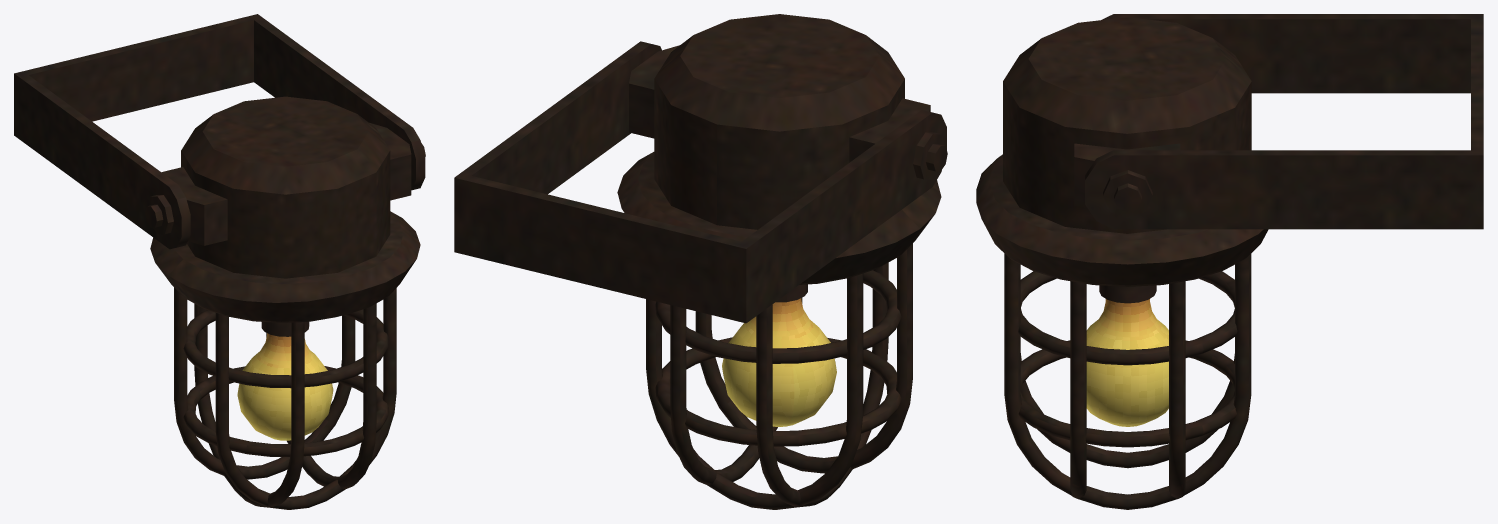
File: lamp_mx_1_on.obj
3 renders of one model, left to right at view 1: azimuth 30°, elevation 25°; view 2: azimuth 150°, elevation 25°; view 3: azimuth 270°, elevation 25°, orthographic. The views are drawn at different scales.
Visible parts, largest first — view 1: lamp_mx_1_on; view 2: lamp_mx_1_on; view 3: lamp_mx_1_on.
Boxes of the visible parts, x1,y1,x2,y2 form: lamp_mx_1_on: (14, 14, 425, 509); lamp_mx_1_on: (454, 14, 947, 509); lamp_mx_1_on: (976, 14, 1483, 509).
Size of the model in its own units: 0.2245 by 0.288 by 0.308.
